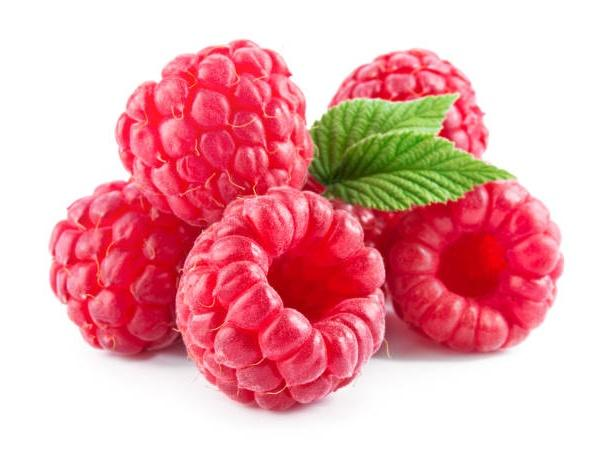peas: (48, 38, 563, 410)
raspberry: (174, 185, 387, 411), (114, 38, 314, 227), (384, 177, 564, 353), (47, 178, 198, 356), (327, 46, 488, 160), (303, 172, 399, 254)
